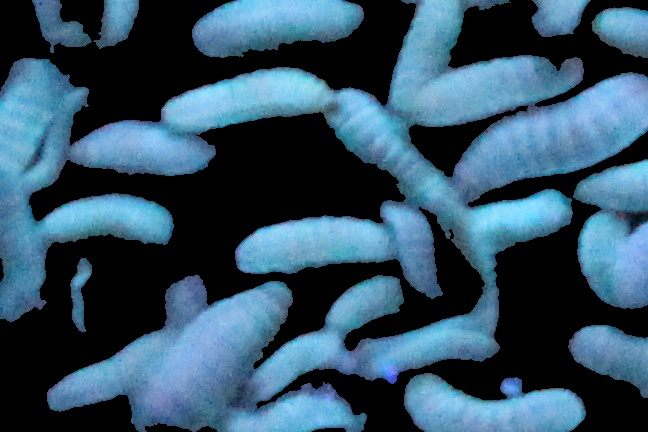larvae: (460, 66, 648, 192), (138, 283, 298, 430), (322, 83, 447, 195), (415, 60, 583, 126), (404, 376, 593, 432), (161, 66, 332, 126), (42, 331, 169, 407), (190, 1, 361, 57), (1, 56, 58, 216), (237, 220, 379, 275), (74, 127, 216, 181), (40, 194, 176, 250), (379, 318, 495, 379), (395, 1, 461, 106), (566, 320, 648, 394), (1, 181, 43, 322), (466, 192, 575, 245), (249, 338, 351, 389), (265, 386, 370, 431), (571, 212, 618, 308), (386, 205, 435, 296), (328, 279, 406, 334), (607, 219, 648, 312), (487, 1, 573, 40), (578, 166, 648, 210), (95, 1, 149, 50), (559, 1, 634, 14)
